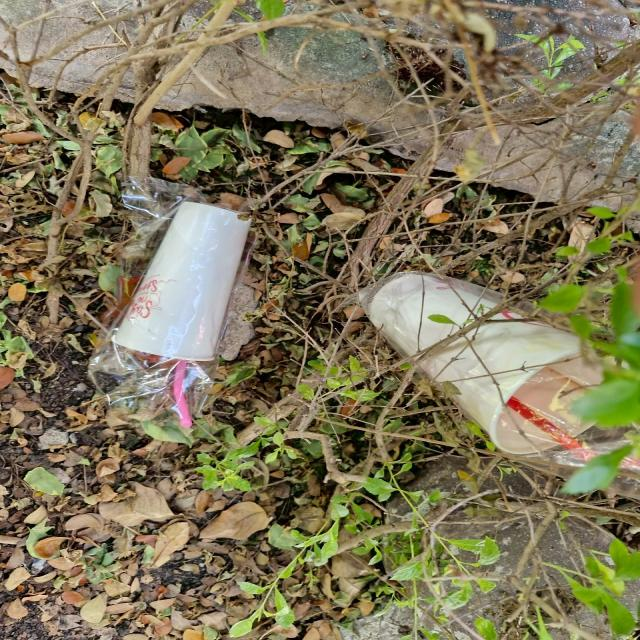paper cup: (369, 271, 592, 453), (121, 201, 233, 371)
